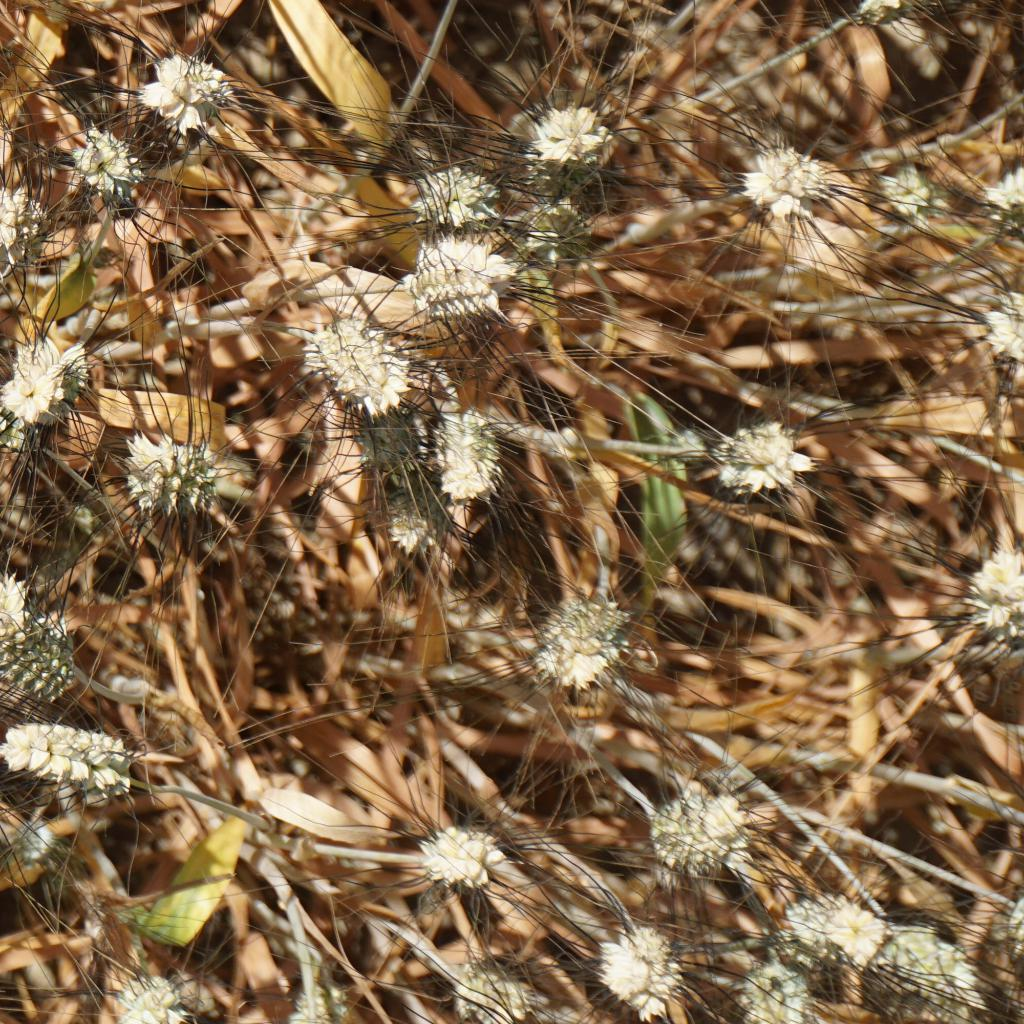0-0: (4, 712, 167, 809), (516, 570, 640, 695), (415, 386, 531, 509), (616, 763, 742, 874), (695, 390, 811, 494), (864, 913, 986, 1010), (104, 431, 222, 531), (301, 311, 417, 407), (399, 216, 505, 318), (0, 570, 86, 693), (586, 921, 687, 1019), (724, 128, 821, 220), (401, 813, 507, 896), (6, 342, 90, 444), (433, 954, 555, 1024), (795, 880, 891, 966), (125, 43, 220, 123), (527, 90, 614, 173), (518, 199, 614, 274), (57, 110, 139, 197), (961, 533, 1024, 644), (399, 141, 492, 216), (349, 404, 429, 481), (724, 949, 806, 1024), (100, 974, 197, 1024), (0, 173, 47, 262), (972, 273, 1024, 353), (870, 149, 925, 222), (967, 153, 1024, 223), (374, 493, 464, 531), (286, 983, 349, 1024), (852, 0, 951, 21)
